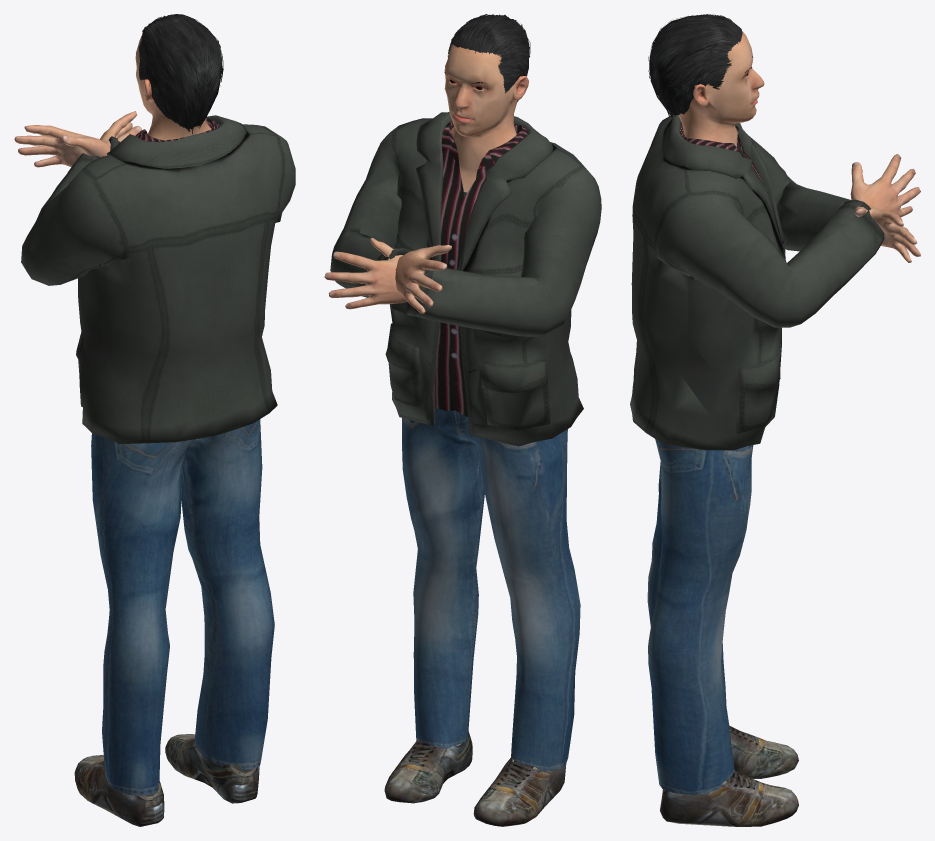
File: clapping_4.gltf
The picture shows the model from 3 angles, left to right: view 1: azimuth 30°, elevation 25°; view 2: azimuth 150°, elevation 25°; view 3: azimuth 270°, elevation 25°; orthographic projection.
Parts seen in each view (by area): view 1: clapping; view 2: clapping; view 3: clapping.
Part boxes in pixels (box(x1,y1,x2,y2)): clapping: box(14, 14, 295, 826); clapping: box(324, 14, 601, 826); clapping: box(630, 14, 920, 826).
Size of the model in its own units: 0.5154 by 1.65 by 0.5586.
6 materials, 6 textured.
